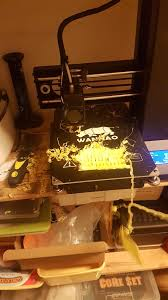fail: (43, 124, 146, 182), (23, 151, 45, 213)
